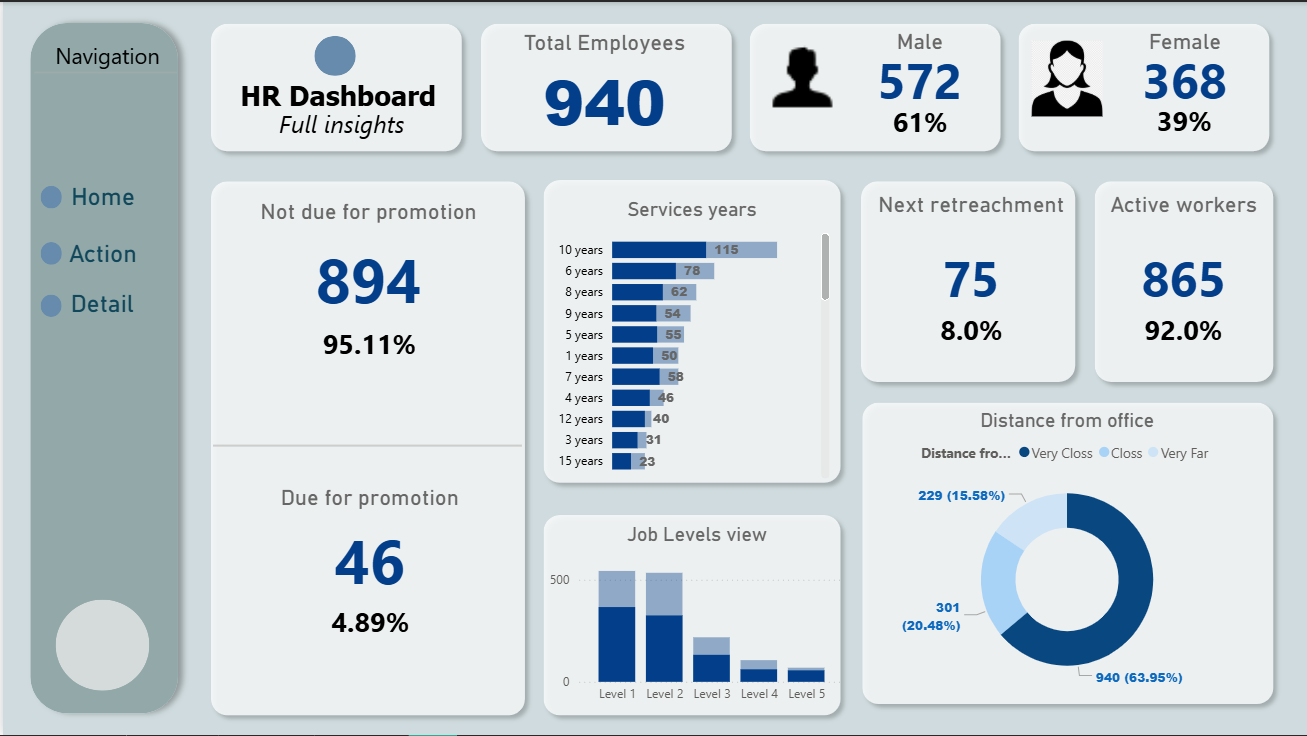

The dashboard page shown, as its layout file describes it:
{"tool":"powerbi","page":{"name":"Home","canvas":[1280,720],"ordinal":0},"visuals":[{"type":"shape","box":[16.5,9.6,166.5,699.2],"z":0},{"type":"shape","box":[195.4,12.4,264.3,143.1],"z":1000},{"type":"shape","box":[459.7,12.4,264.3,143.1],"z":2000},{"type":"shape","box":[724,12.4,264.3,143.1],"z":3000},{"type":"shape","box":[988.2,12.4,264.3,143.1],"z":4000},{"type":"shape","box":[195.4,166.5,326.2,542.3],"z":5000},{"type":"shape","box":[521.6,166.2,309.7,315.2],"z":6000},{"type":"shape","box":[521.6,494.1,309.7,214.7],"z":7000},{"type":"shape","box":[834.8,384.2,421.6,314.1],"z":8000},{"type":"shape","box":[833.6,166.7,228.3,215],"z":9000},{"type":"shape","box":[1063.1,166.7,193.3,215],"z":10000},{"type":"textbox","box":[209.7,71.2,238.7,51.4],"z":11000},{"type":"textbox","box":[36.8,33.1,131.3,51.5],"z":12000},{"type":"textbox","box":[209.7,97.6,251.9,55.4],"z":13000},{"type":"shape","box":[305.9,33,40.9,39.6],"z":14000},{"type":"card","title":"Total Employees","fields":{"Values":["All Measures.Total Emp"]},"box":[468,27.5,246.4,112.9],"z":15000},{"type":"card","title":"Male","fields":{"Values":["All Measures.Male"]},"box":[814.8,26.2,170.7,75.7],"z":16000},{"type":"card","fields":{"Values":["All Measures.Male %"]},"box":[834.1,90.8,132.1,55.1],"z":17000},{"type":"card","title":"Female","fields":{"Values":["All Measures.Female"]},"box":[1068.7,26.2,183.1,75.7],"z":18000},{"type":"card","fields":{"Values":["All Measures.Female %"]},"box":[1083.9,90.8,152.8,53.7],"z":19000},{"type":"image","box":[736.3,26.2,95,90.8],"z":20000},{"type":"actionButton","title":"Home","box":[27.8,176.4,140.1,30.2],"z":21000},{"type":"image","box":[1004.7,33,79.8,84],"z":22000},{"type":"actionButton","title":"Action","box":[27.7,233.4,139.8,56.7],"z":23000},{"type":"card","title":"Active workers","fields":{"Values":["All Measures.On service"]},"box":[1058.3,186,203,142.6],"z":24000},{"type":"actionButton","title":"Detail","box":[28.2,282.2,138.7,57.7],"z":25000},{"type":"card","fields":{"Values":["All Measures.% Active workers"]},"box":[1082.4,296,153.4,53.2],"z":26000},{"type":"card","title":"Next retreachment","fields":{"Values":["All Measures.Due for retirment"]},"box":[843.2,186,215,142.6],"z":27000},{"type":"card","fields":{"Values":["All Measures.%Due for retirment"]},"box":[865,296,171.5,53.2],"z":28000},{"type":"columnChart","title":"Job Levels view","fields":{"Category":["HR Analytics Data.Job Level"],"Y":["All Measures.Total Emp"]},"box":[531.3,512,300,185.8],"z":29000},{"type":"barChart","title":"Services years","fields":{"Category":["HR Analytics Data.Total working Years"],"Y":["All Measures.Total Emp"]},"box":[536.4,192.1,280.3,280.3],"z":30000},{"type":"donutChart","title":"Distance from office","fields":{"Category":["HR Analytics Data.Distance from office"],"Y":["All Measures.Total Emp"]},"box":[840.8,399.9,408.3,282.7],"z":31000},{"type":"card","title":"Not due for promotion","fields":{"Values":["All Measures.Not Due"]},"box":[207.8,192.1,303.2,130.5],"z":32000},{"type":"card","title":"Due for promotion","fields":{"Values":["All Measures.Due for promotion"]},"box":[209,473.8,303.2,119.6],"z":33000},{"type":"shape","box":[206.6,427.7,303.2,14.5],"z":34000},{"type":"card","fields":{"Values":["All Measures.% Not due for promotion"]},"box":[283.5,309.7,152.8,53.7],"z":35000},{"type":"card","fields":{"Values":["All Measures.% Due for promotion"]},"box":[285.1,582.5,152.2,53.2],"z":36000},{"type":"shape","box":[36.9,180.7,21.1,22.4],"z":37000},{"type":"shape","box":[36.9,236,21.1,22.4],"z":38000},{"type":"shape","box":[36.8,287.1,20.9,22.1],"z":39000},{"type":"shape","box":[51.4,586.8,92.3,89.7],"z":40000},{"type":"shape","box":[30.2,61.6,140.1,15.7],"z":41000}]}

Visuals, with their boxes in screenshot pixels (x1, y1, x2, y2), scaled from the page's 1280x720 canvas onto the 1307x736 screenshot:
shape: box(17, 10, 187, 725)
shape: box(200, 13, 469, 159)
shape: box(469, 13, 739, 159)
shape: box(739, 13, 1009, 159)
shape: box(1009, 13, 1279, 159)
shape: box(200, 170, 533, 725)
shape: box(533, 170, 849, 492)
shape: box(533, 505, 849, 725)
shape: box(852, 393, 1283, 714)
shape: box(851, 170, 1084, 390)
shape: box(1086, 170, 1283, 390)
textbox: box(214, 73, 458, 125)
textbox: box(38, 34, 172, 86)
textbox: box(214, 100, 471, 156)
shape: box(312, 34, 354, 74)
"Total Employees" card: box(478, 28, 729, 144)
"Male" card: box(832, 27, 1006, 104)
card - All Measures.Male %: box(852, 93, 987, 149)
"Female" card: box(1091, 27, 1278, 104)
card - All Measures.Female %: box(1107, 93, 1263, 148)
image: box(752, 27, 849, 120)
"Home" actionButton: box(28, 180, 171, 211)
image: box(1026, 34, 1107, 120)
"Action" actionButton: box(28, 239, 171, 297)
"Active workers" card: box(1081, 190, 1288, 336)
"Detail" actionButton: box(29, 288, 170, 347)
card - All Measures.% Active workers: box(1105, 303, 1262, 357)
"Next retreachment" card: box(861, 190, 1081, 336)
card - All Measures.%Due for retirment: box(883, 303, 1058, 357)
"Job Levels view" columnChart: box(543, 523, 849, 713)
"Services years" barChart: box(548, 196, 834, 483)
"Distance from office" donutChart: box(859, 409, 1275, 698)
"Not due for promotion" card: box(212, 196, 522, 330)
"Due for promotion" card: box(213, 484, 523, 607)
shape: box(211, 437, 521, 452)
card - All Measures.% Not due for promotion: box(289, 317, 446, 371)
card - All Measures.% Due for promotion: box(291, 595, 447, 650)
shape: box(38, 185, 59, 208)
shape: box(38, 241, 59, 264)
shape: box(38, 293, 59, 316)
shape: box(52, 600, 147, 692)
shape: box(31, 63, 174, 79)
